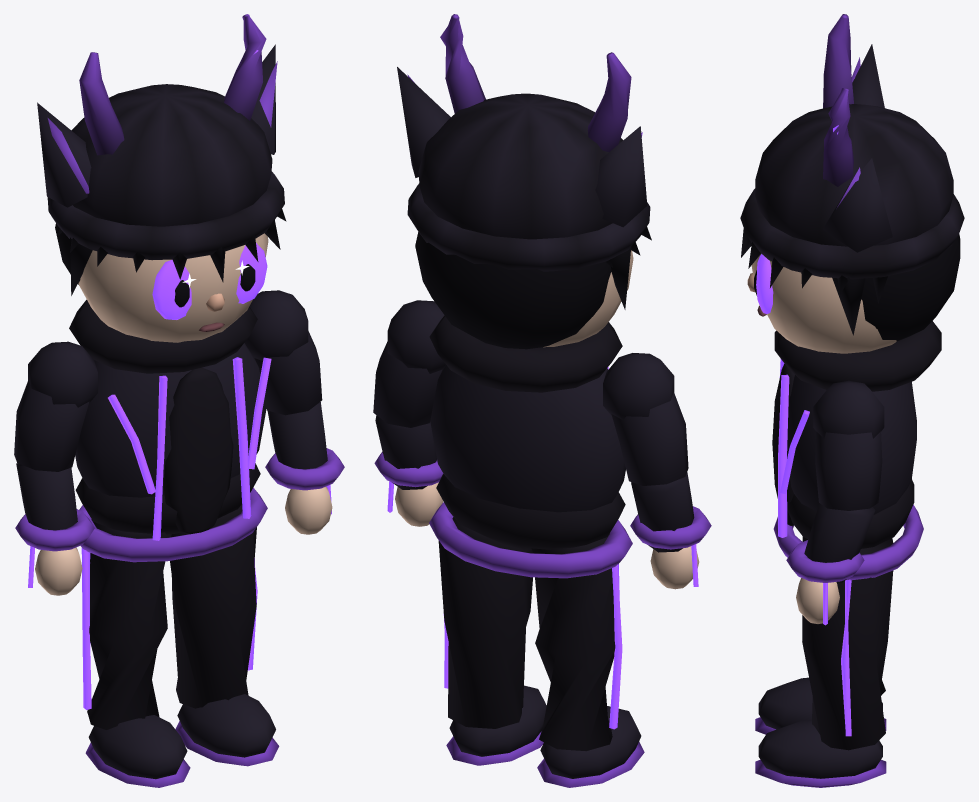
File: art-kairo.glb
3 renders of one model, left to right at view 1: azimuth 30°, elevation 25°; view 2: azimuth 150°, elevation 25°; view 3: azimuth 270°, elevation 25°, orthographic. The views are drawn at different scales.
Visible parts, largest first — view 1: body, beanie, leg_R, leg_L, head, arm_R, forearm_R, arm_L, forearm_L, foot_R, foot_L, ear_R (+5 smaller); view 2: body, beanie, head, leg_R, leg_L, arm_R, arm_L, forearm_R, forearm_L, foot_R, foot_L, ear_R (+3 smaller); view 3: beanie, body, head, leg_L, arm_L, forearm_L, foot_L, ear_L, foot_R, horn_L, horn_R, ear_R (+1 smaller).
Part boxes in pixels (<box>): body: <box>69,299,271,562</box>; beanie: <box>47,84,284,260</box>; leg_R: <box>81,519,171,729</box>; leg_L: <box>170,504,257,708</box>; head: <box>55,209,286,342</box>; arm_R: <box>14,341,97,471</box>; forearm_R: <box>15,463,94,595</box>; arm_L: <box>244,290,322,415</box>; forearm_L: <box>265,402,344,534</box>; foot_R: <box>85,715,190,787</box>; foot_L: <box>175,694,279,766</box>; ear_R: <box>37,102,91,207</box>; body: <box>429,315,632,578</box>; beanie: <box>407,93,650,271</box>; head: <box>415,227,651,349</box>; leg_R: <box>531,533,622,751</box>; leg_L: <box>438,517,532,728</box>; arm_R: <box>603,353,688,485</box>; arm_L: <box>373,300,445,427</box>; forearm_R: <box>630,472,711,589</box>; forearm_L: <box>374,415,443,526</box>; foot_R: <box>537,706,644,787</box>; foot_L: <box>446,685,546,765</box>; ear_R: <box>595,126,647,227</box>; beanie: <box>740,104,964,279</box>; body: <box>772,321,941,580</box>; head: <box>741,228,960,353</box>; leg_L: <box>802,536,893,750</box>; arm_L: <box>813,380,884,510</box>; forearm_L: <box>786,503,875,625</box>; foot_L: <box>755,720,886,787</box>; ear_L: <box>823,158,892,252</box>; foot_R: <box>755,677,886,734</box>; horn_L: <box>823,88,853,186</box>; horn_R: <box>823,14,853,108</box>; ear_R: <box>851,44,884,107</box>.
Bounding box in the file's own units: 0.388 × 0.8354 × 0.2406.
